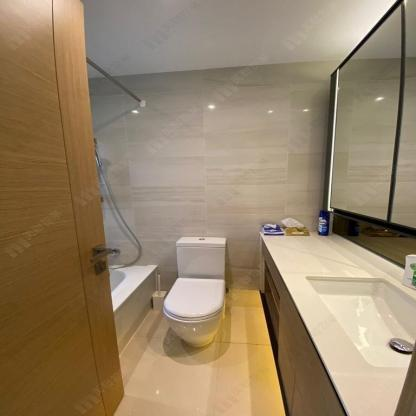Bathtub: (106, 264, 158, 358)
Toilet: (155, 232, 237, 356)
Toilet Sink: (281, 270, 415, 384)
